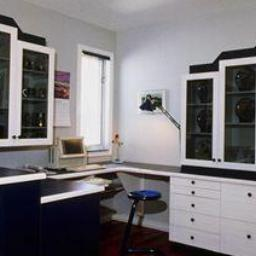Armario: (169, 46, 256, 255)
